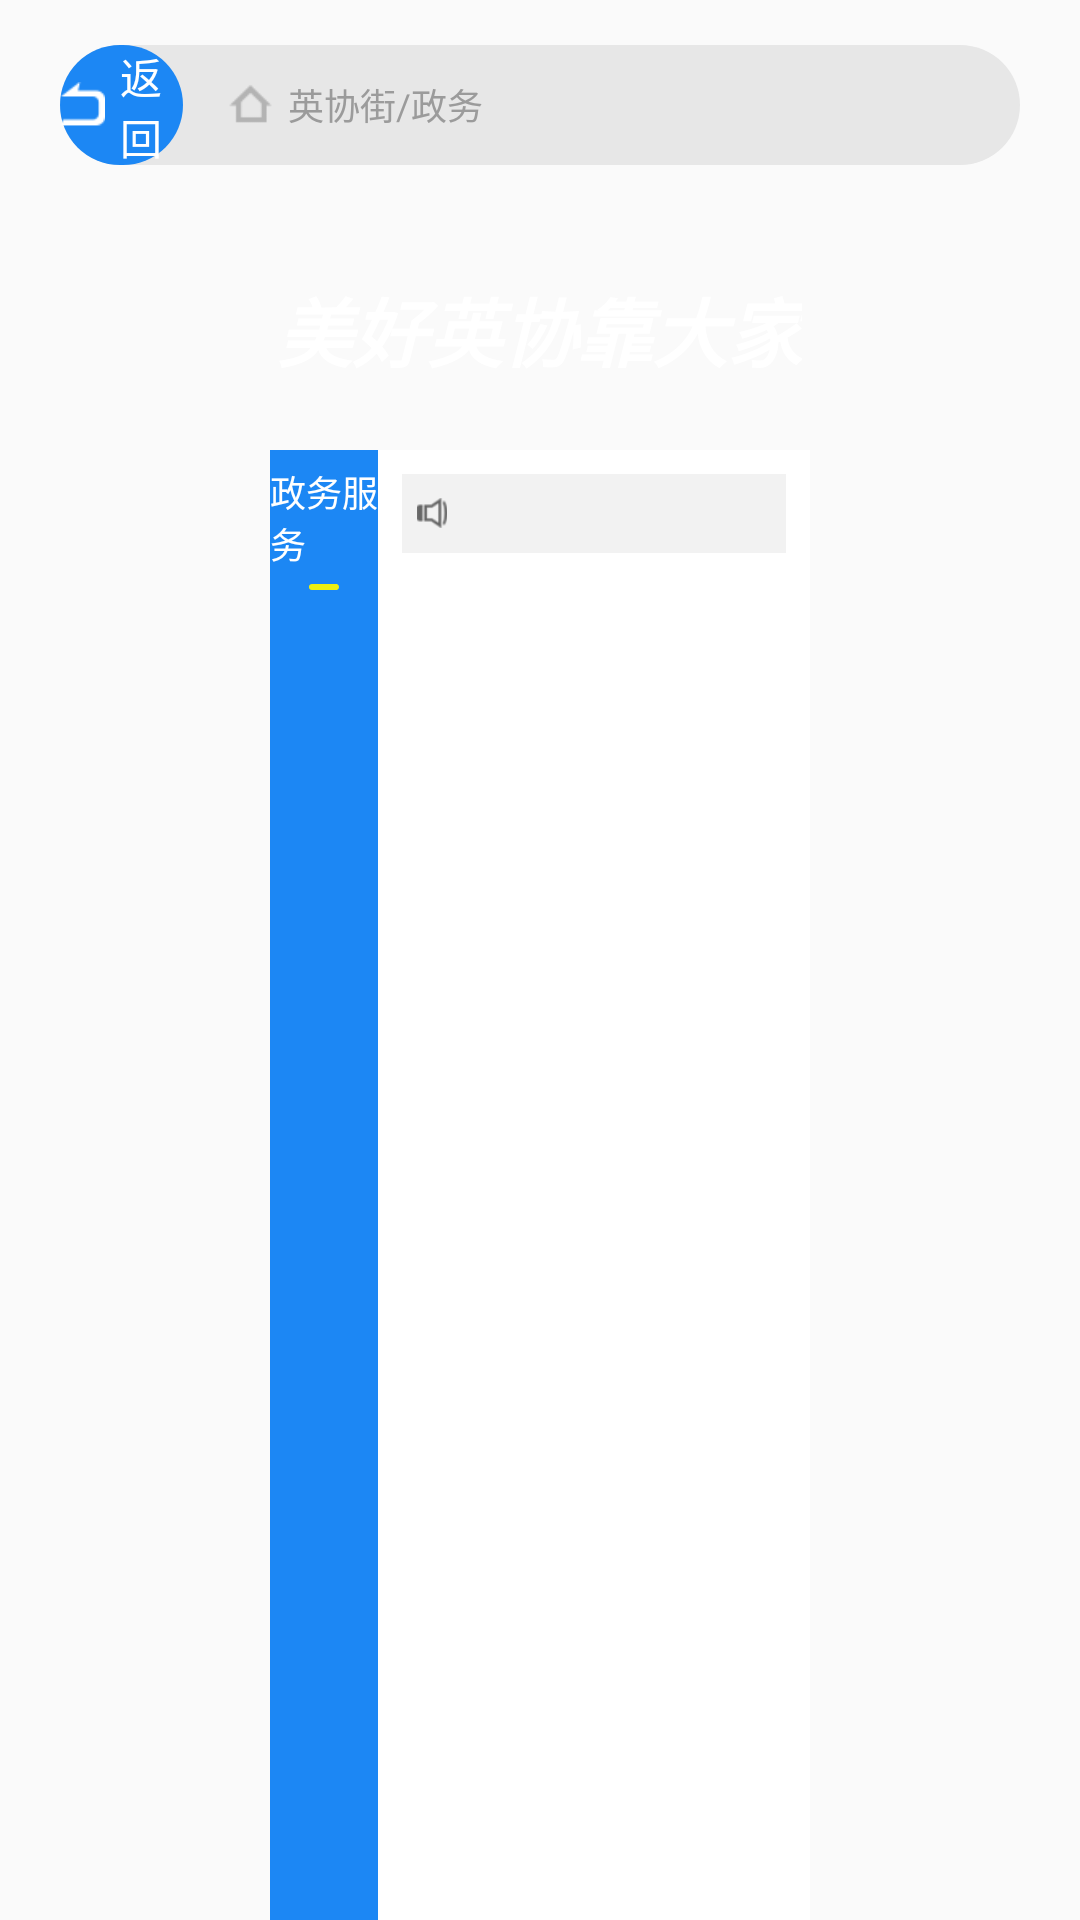

Locate icon controls on the screen. Image size 1080*1920, boxes as (x1, y1, x2, y2).
crumb home: (231, 86, 270, 122)
